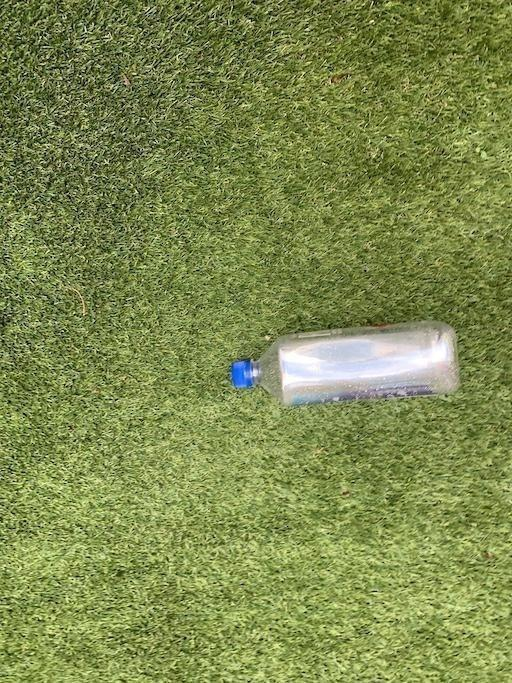bottle-plastic: (231, 319, 461, 409)
